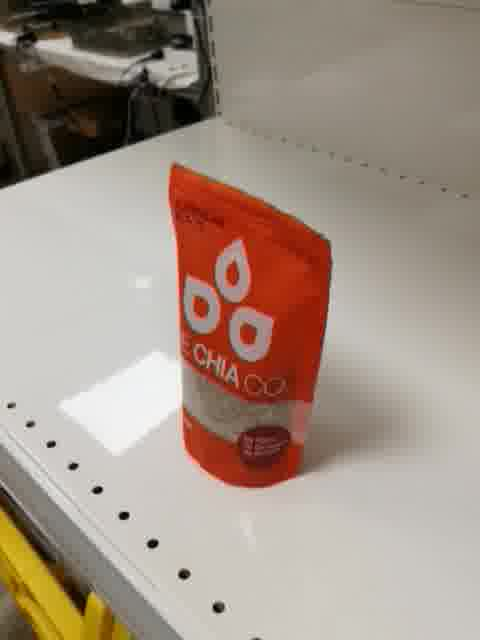whitechia: (164, 159, 337, 492)
